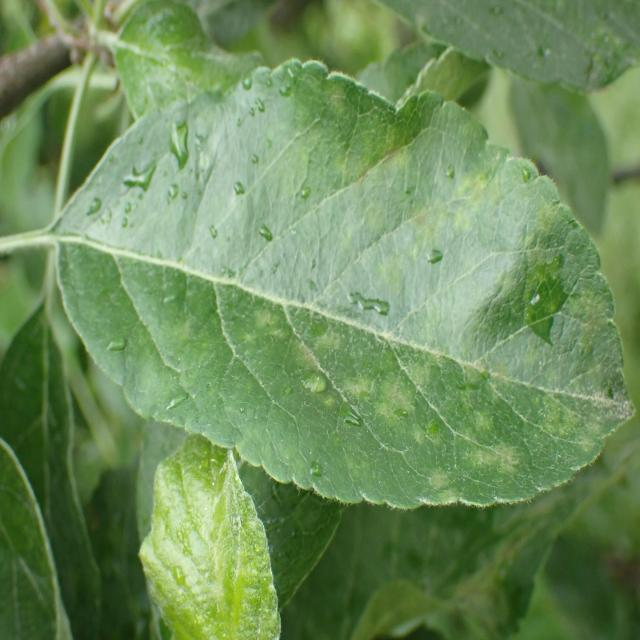scab: (112, 115, 628, 493)
